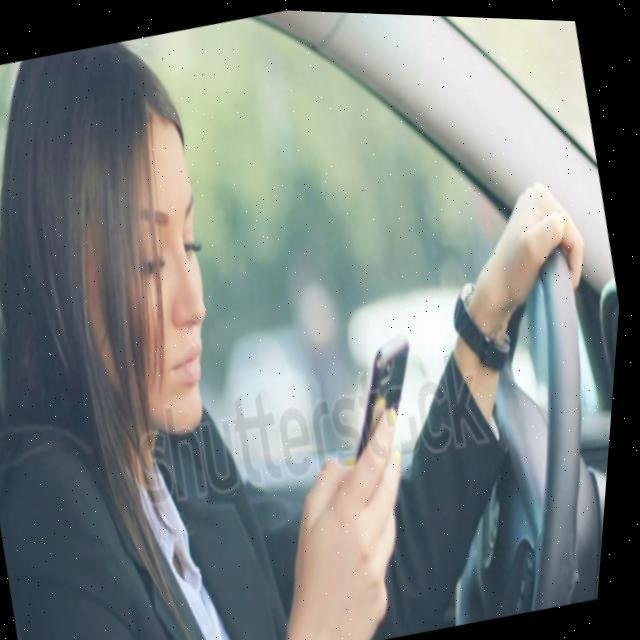PhoneCall: (332, 328, 443, 485)
